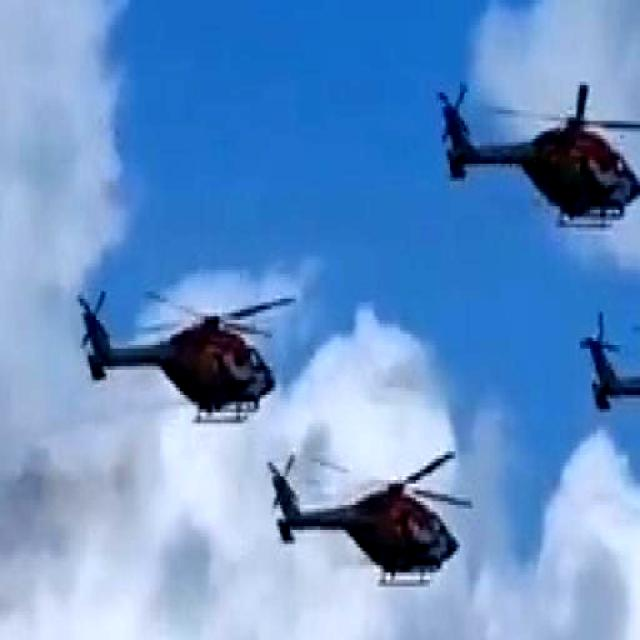drone: (72, 246, 298, 421), (440, 54, 640, 246), (255, 451, 481, 609), (584, 294, 640, 488)
